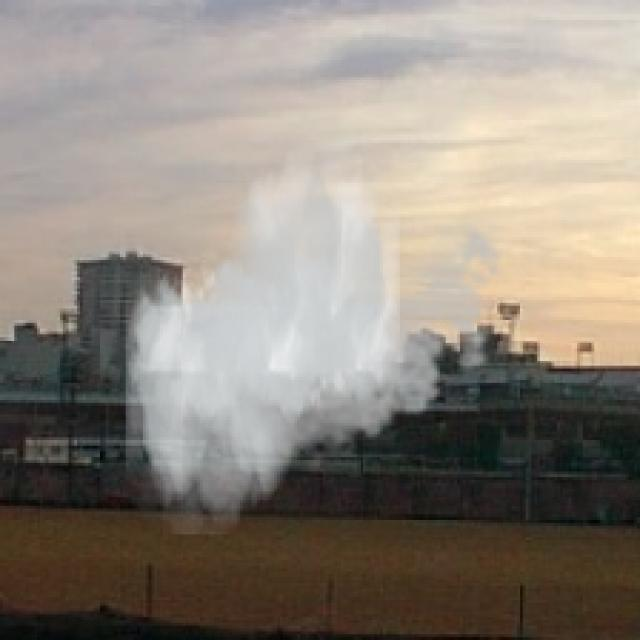smoke: (126, 143, 514, 534)
